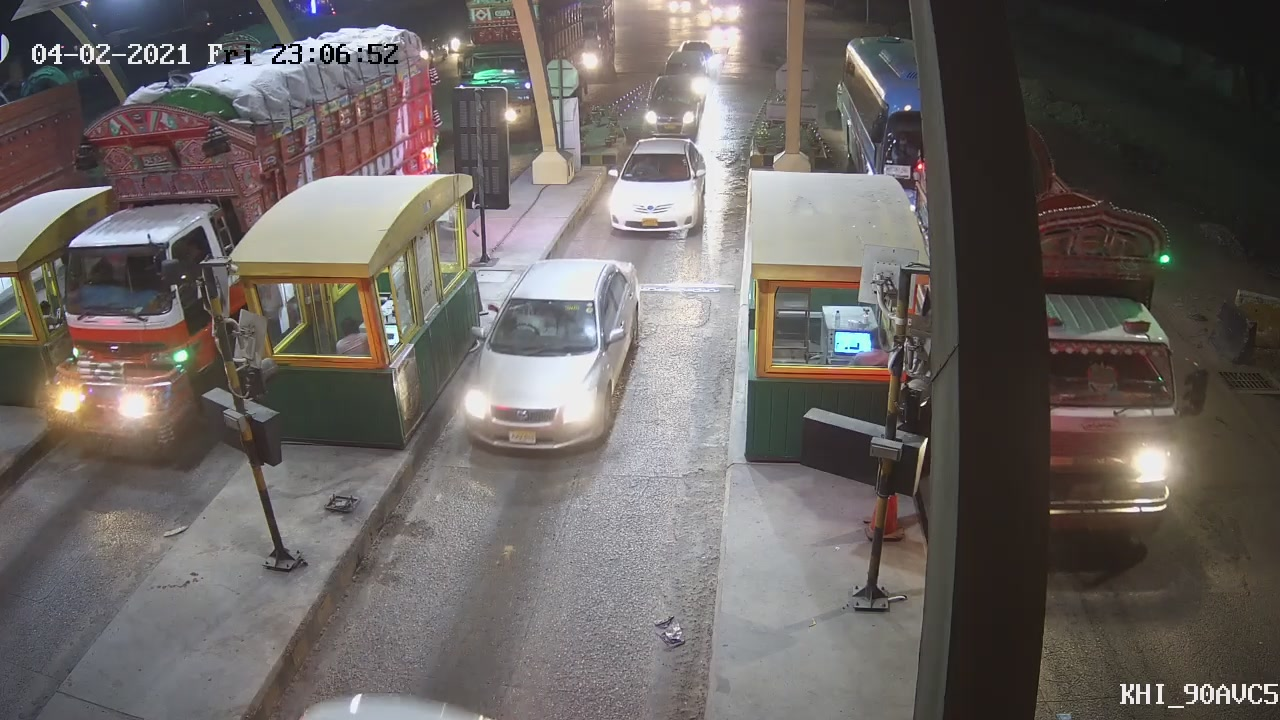F1: (459, 256, 646, 458), (607, 133, 713, 240)
